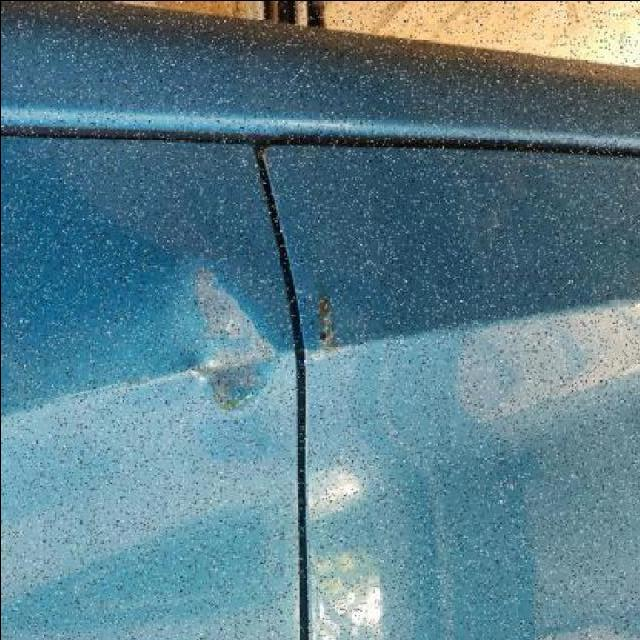doorouter-dent: (295, 77, 639, 640), (0, 79, 297, 636)
